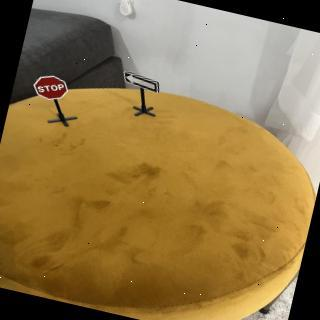sign_oneway_left: (119, 69, 165, 98)
sign_stop: (31, 71, 73, 106)
